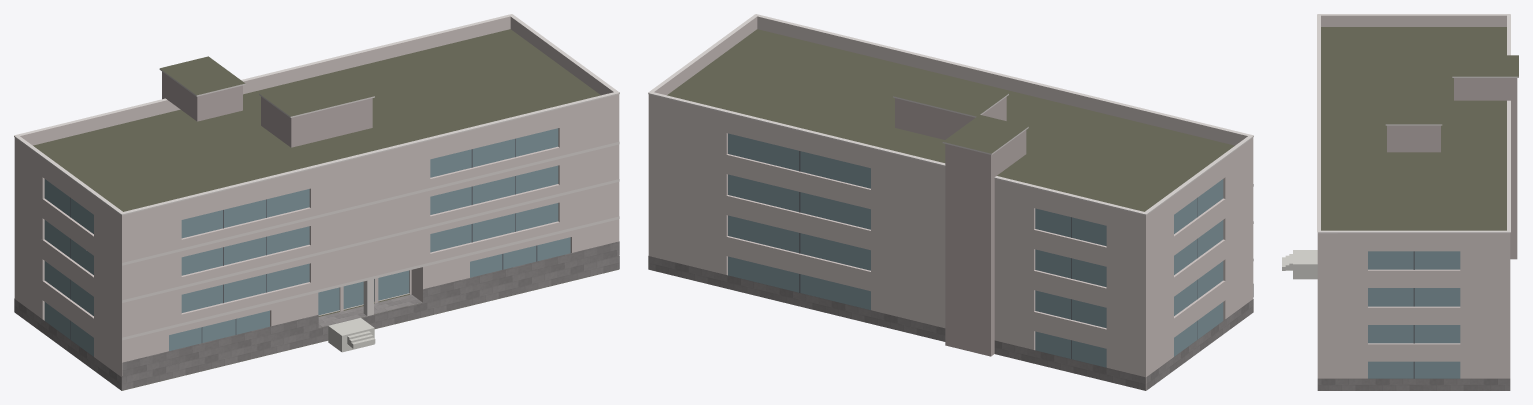
The picture shows the model from 3 angles, left to right: view 1: azimuth 30°, elevation 25°; view 2: azimuth 150°, elevation 25°; view 3: azimuth 270°, elevation 25°; orthographic projection. The views are drawn at different scales.
Visible parts, largest first — view 1: b933__wall, b933__roof, b933__glass, b933__base, b933__parapet, b933__trim, b933__wall2, b933__entranceStair; view 2: b933__wall, b933__roof, b933__glass, b933__parapet, b933__wall2, b933__base, b933__trim; view 3: b933__roof, b933__wall, b933__glass, b933__parapet, b933__wall2, b933__trim, b933__base, b933__entranceStair.
Boxes of the visible parts, x1,y1,x2,y2 form: b933__wall: [14, 105, 619, 390]; b933__roof: [33, 29, 618, 390]; b933__glass: [44, 128, 570, 356]; b933__base: [14, 241, 619, 390]; b933__parapet: [14, 16, 619, 226]; b933__trim: [14, 14, 619, 340]; b933__wall2: [162, 72, 372, 147]; b933__entranceStair: [328, 318, 375, 352]; b933__wall: [648, 105, 1253, 390]; b933__roof: [667, 29, 1234, 211]; b933__glass: [728, 133, 1223, 367]; b933__parapet: [648, 16, 1253, 226]; b933__wall2: [895, 97, 1026, 356]; b933__base: [648, 256, 1253, 390]; b933__trim: [648, 14, 1253, 260]; b933__roof: [1321, 27, 1518, 230]; b933__wall: [1317, 243, 1510, 378]; b933__glass: [1368, 251, 1460, 378]; b933__parapet: [1317, 15, 1510, 243]; b933__wall2: [1387, 78, 1517, 259]; b933__trim: [1317, 14, 1518, 233]; b933__base: [1317, 378, 1510, 390]; b933__entranceStair: [1282, 250, 1317, 279].
Size of the model in its own units: 45.82 by 18.08 by 20.99.
Materials: 11 (1 with a texture image).
